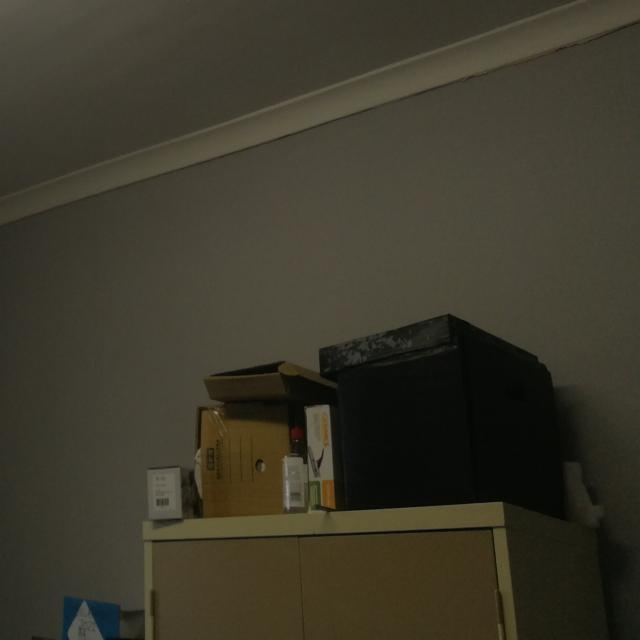fluorescent tube: (0, 0, 313, 31)
